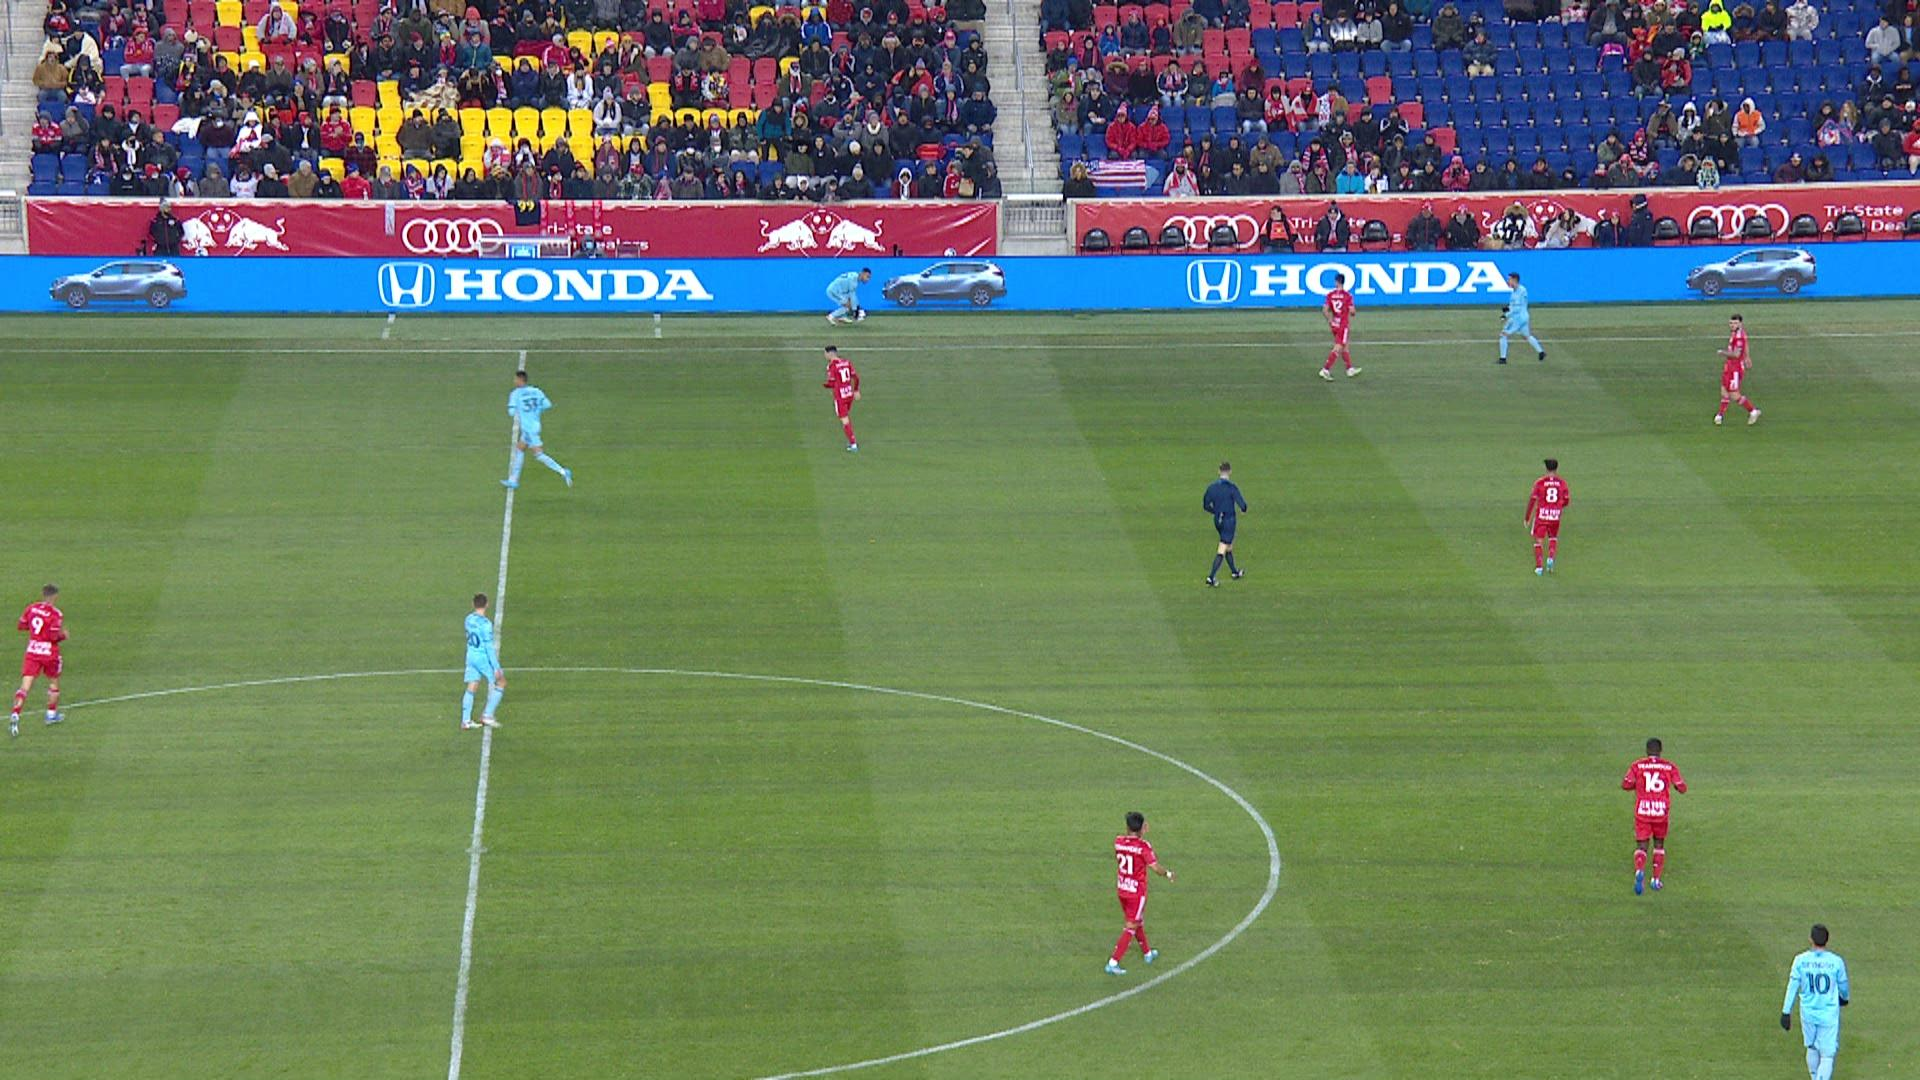football: (857, 309, 868, 320)
